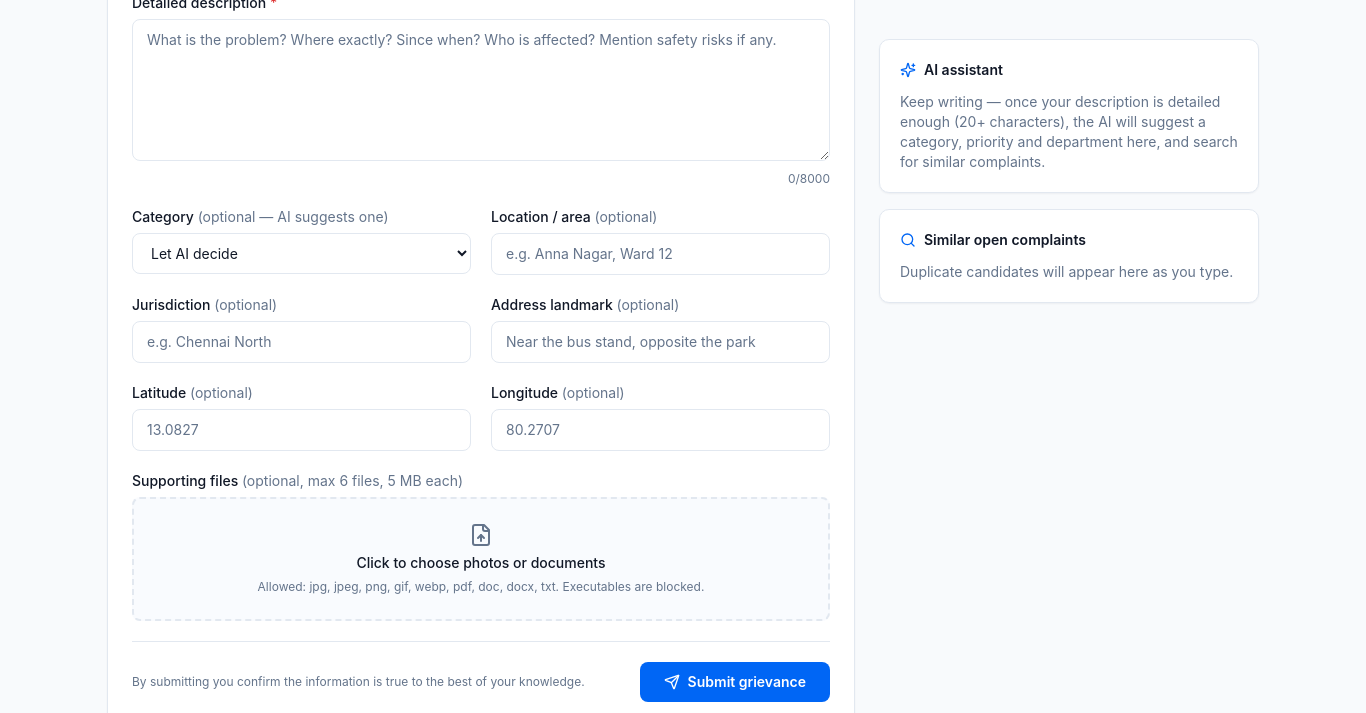
grievance submission form validation › shows required-field errors and does not submit
The width and height of the screenshot is (1366, 713).
(page scrolled)
Click the button "Submit grievance". click: click(735, 682)
box: [640,662,830,702]
(page scrolled)
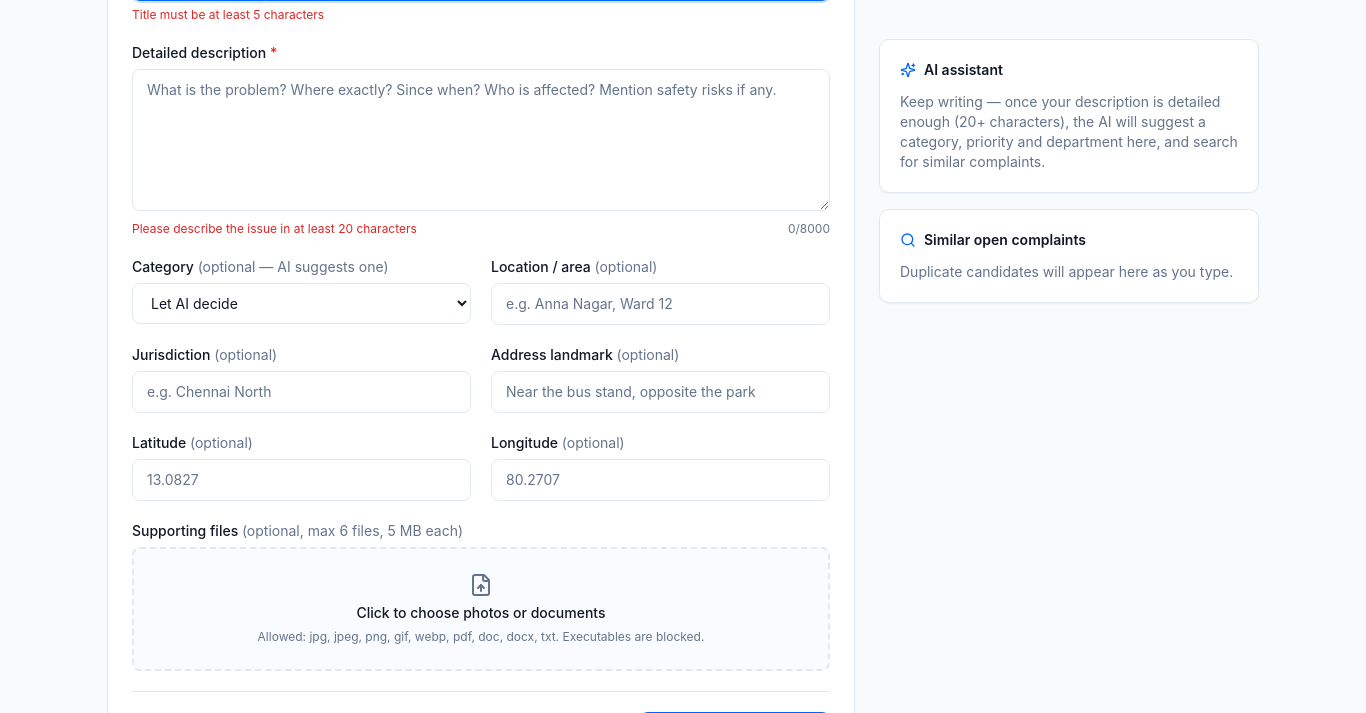
Now the text "Title must be at least 5 characters" is shown, box [132,7,324,22]
Now the text "Please describe the issue in at least 20 characters" is shown, box [132,221,417,237]
